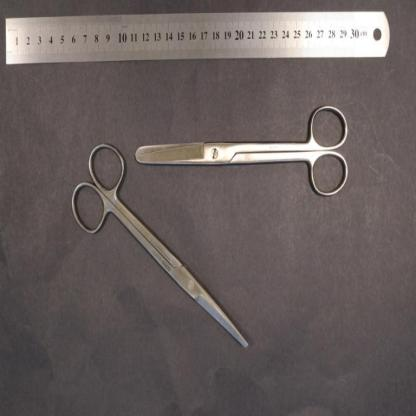Curved Mayo Scissors: (70, 140, 250, 348)
Dressing Scissors: (134, 101, 350, 200)
